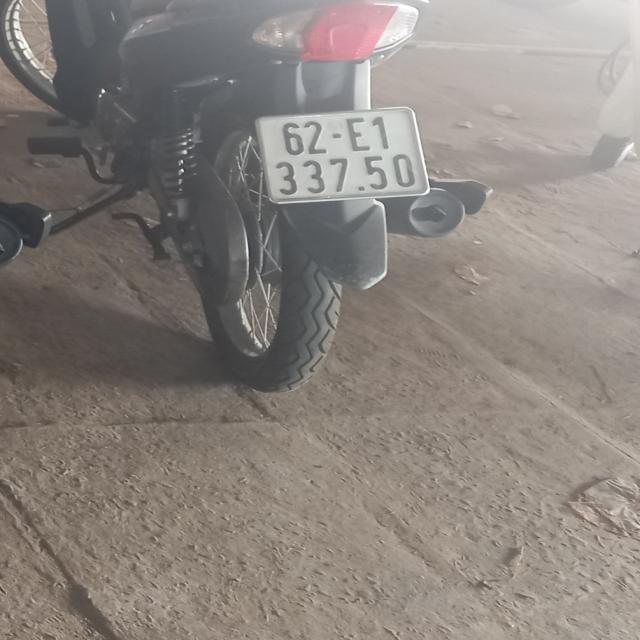0: (394, 154, 416, 188)
1: (370, 116, 388, 150)
2: (304, 122, 326, 154)
3: (275, 162, 298, 195), (303, 160, 325, 193)
5: (364, 155, 386, 190)
6: (282, 124, 304, 155)
7: (330, 158, 347, 192)
E: (347, 118, 370, 152)
